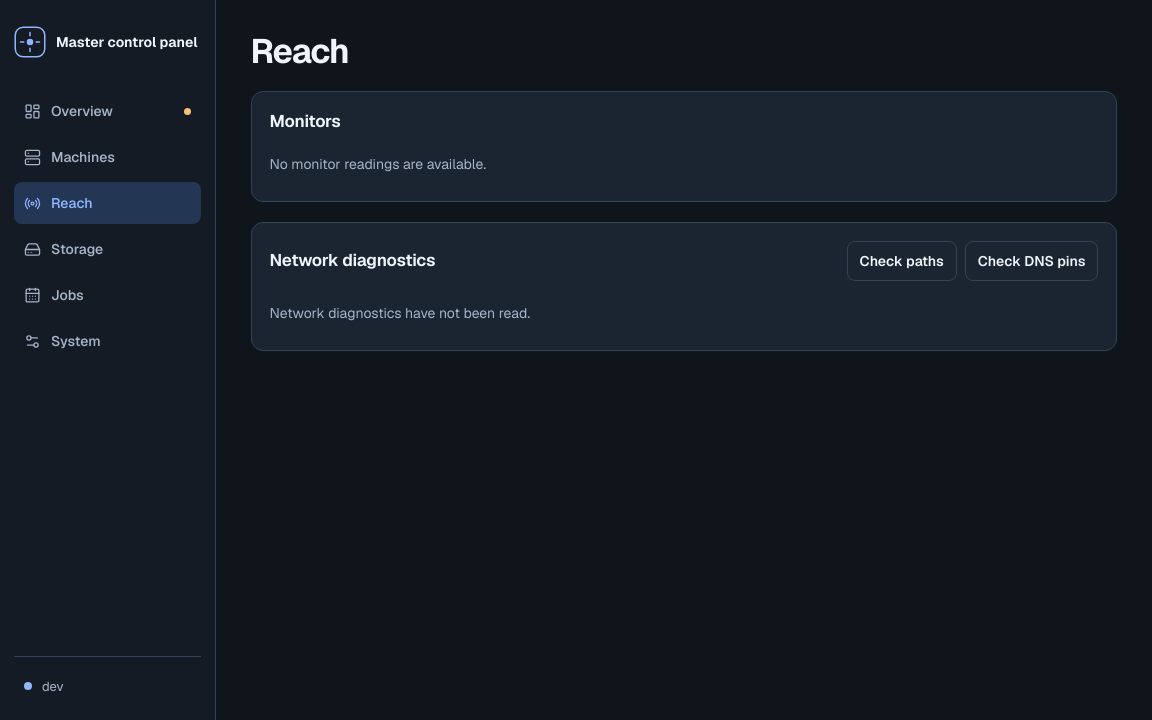
Test: remaining host action contracts › preserves diagnostic, disk, release, and password controls
Later steps or results of the test are not shown.
Click the button "Check paths" at (902, 261), box x1=847 y1=241 x2=957 y2=281
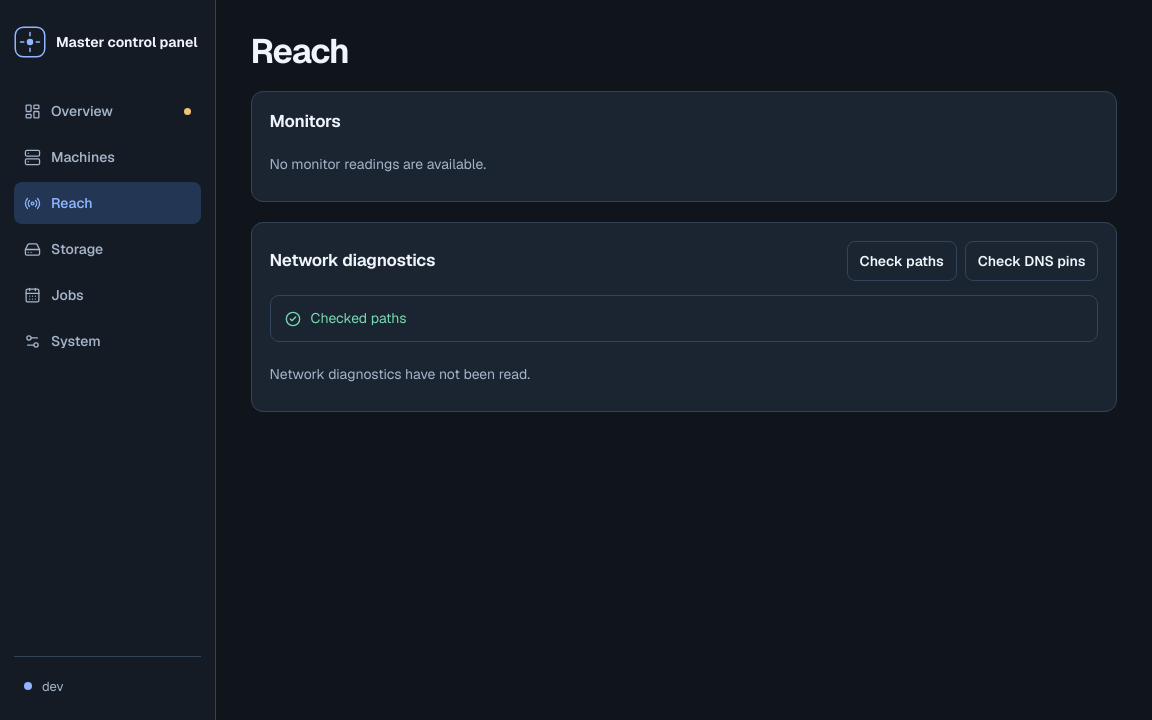
Click the button "Check DNS pins" at (1032, 261), box x1=965 y1=241 x2=1098 y2=281
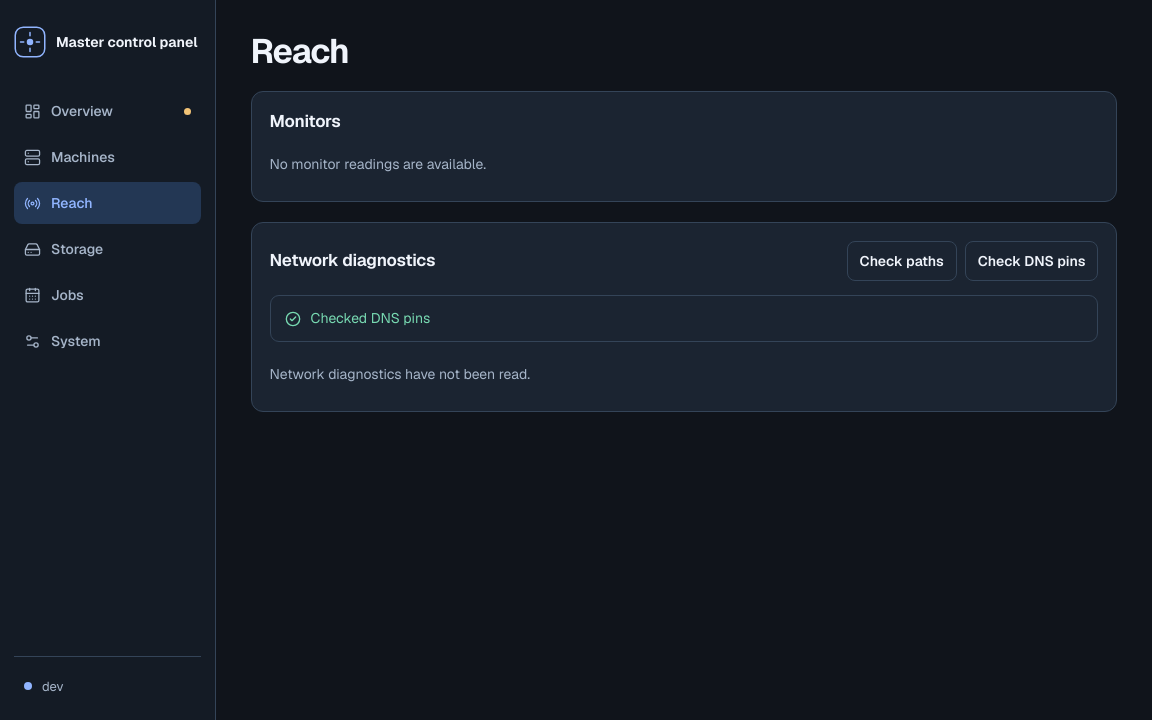
Click the link to "/storage" at (64, 248), box x1=24 y1=240 x2=103 y2=258
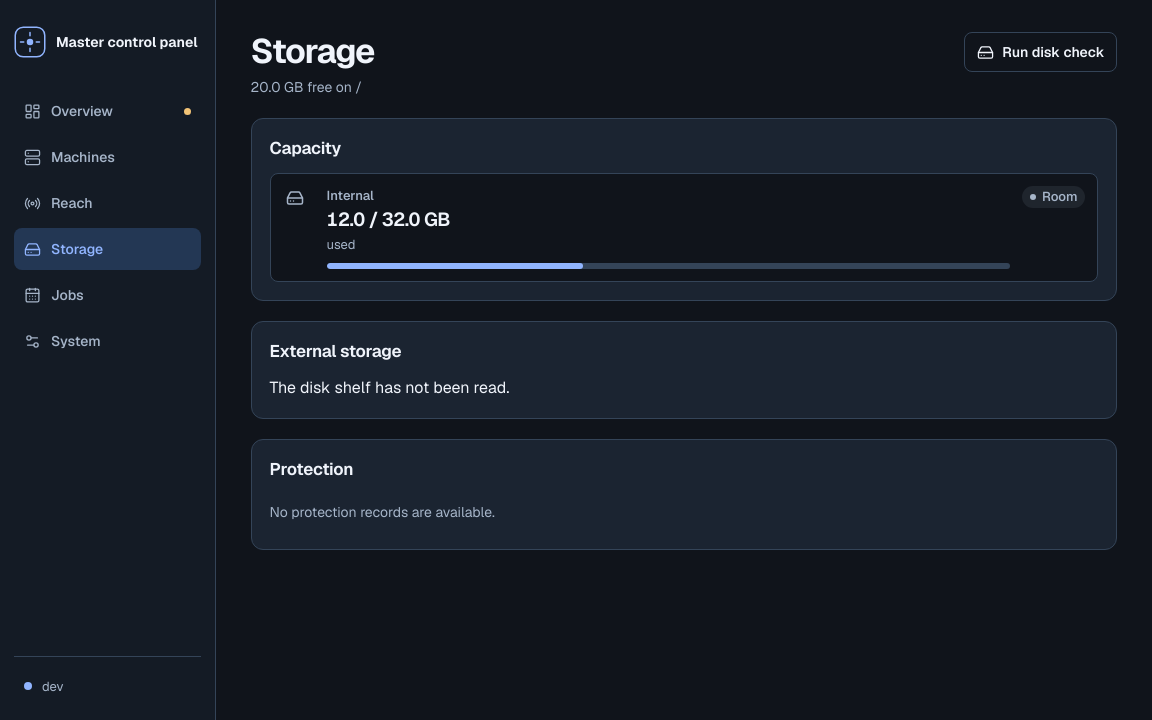
Click the button "Run disk check" at (1041, 52), box x1=964 y1=32 x2=1118 y2=72
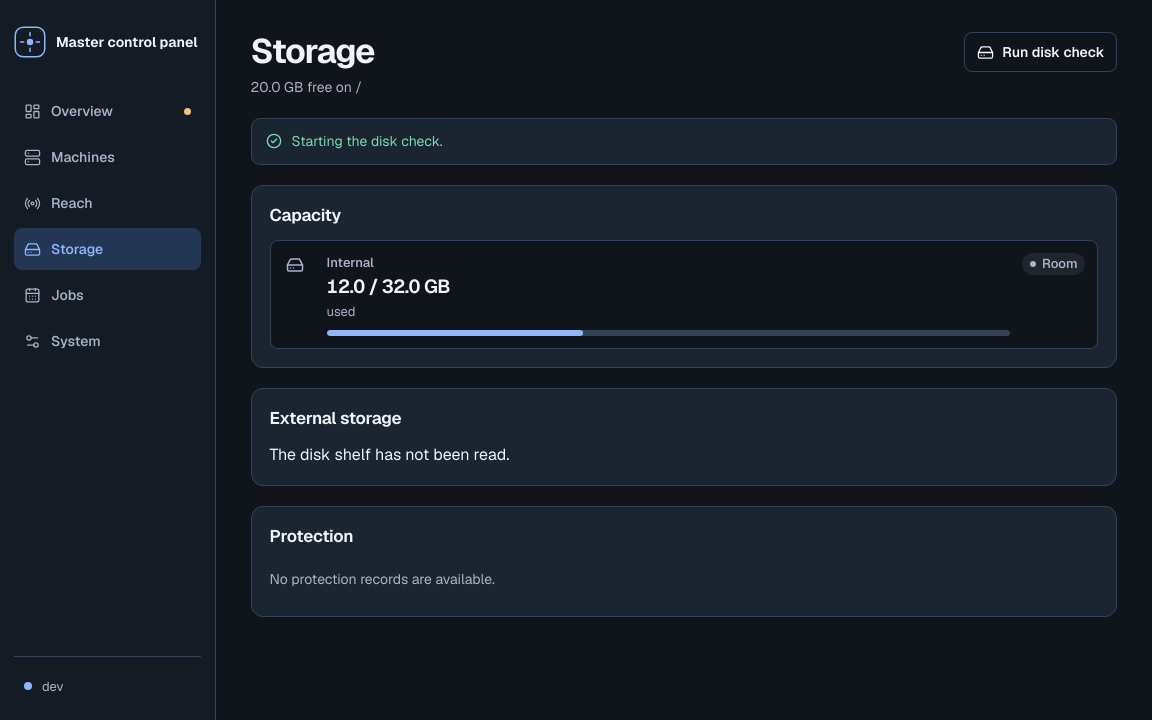
Click the link to "/system" at (62, 340), box x1=24 y1=332 x2=101 y2=350
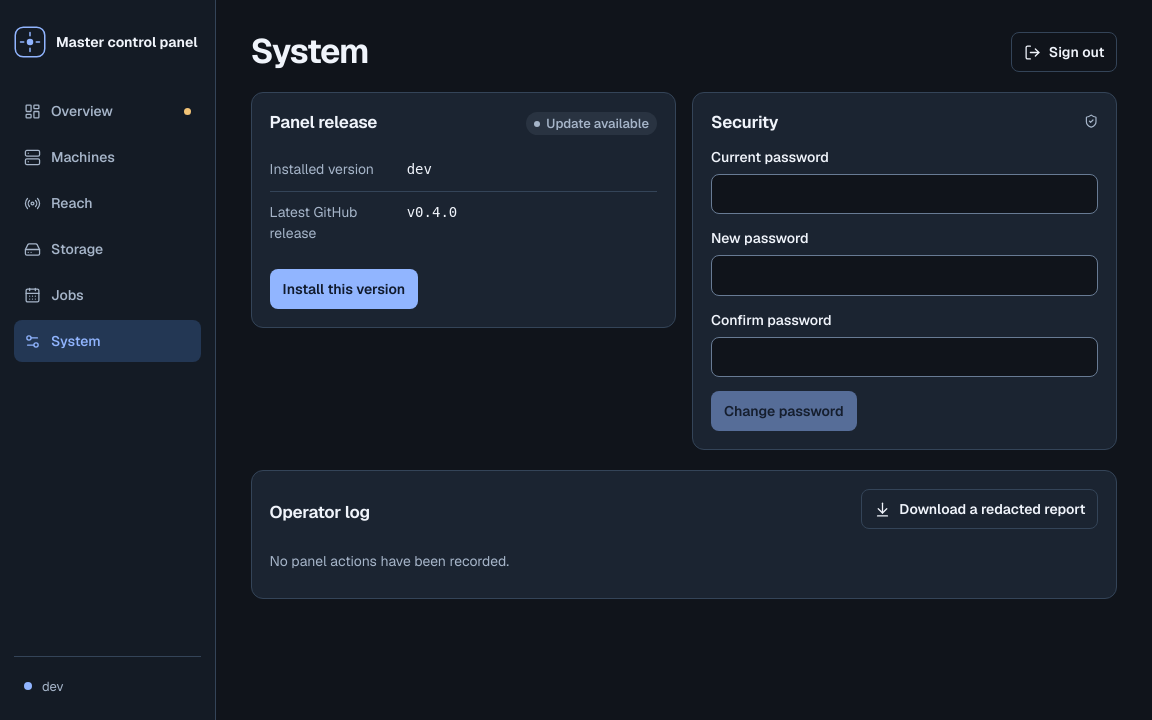
Result: the link to "/api/report" reads "Download a redacted report" at x1=861 y1=489 x2=1098 y2=529
